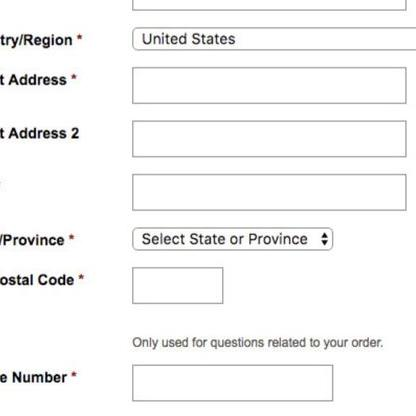field: (128, 66, 406, 107), (129, 173, 408, 213), (130, 120, 406, 159), (130, 364, 333, 404), (129, 266, 224, 306)
